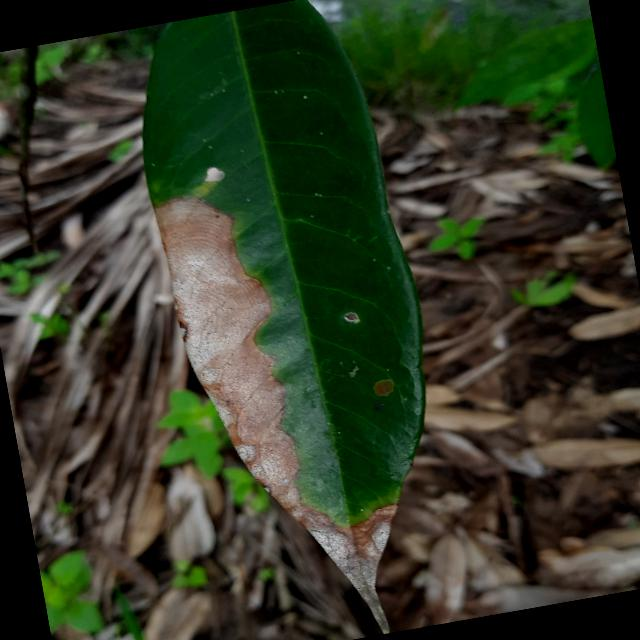Leaf Blight: (111, 0, 482, 639)
